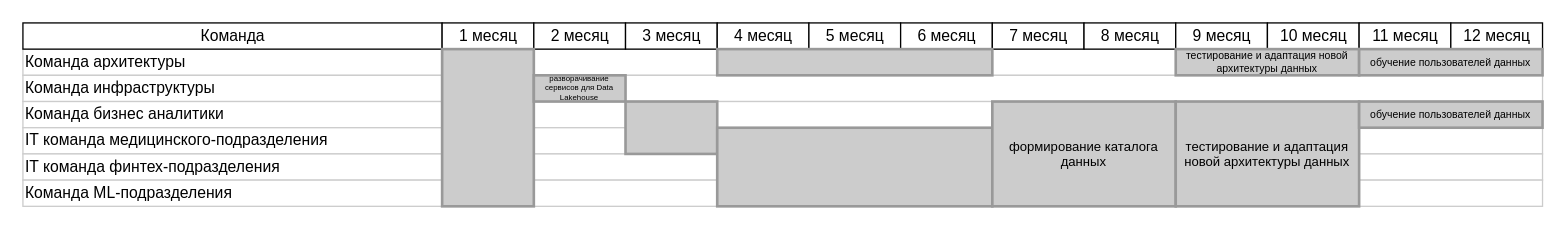
This 1567x231 diagram has some shape labels left out. The shapes that lost their labels are listed below. From the top down, each one's centre as x and y in pixels, then its label:
point (854, 61): описание стандарта работы с данными
point (487, 127): детализация и согласование требований
point (671, 127): прототипирование Data Lakehouse
point (854, 166): интеграция данных в Lakehouse
